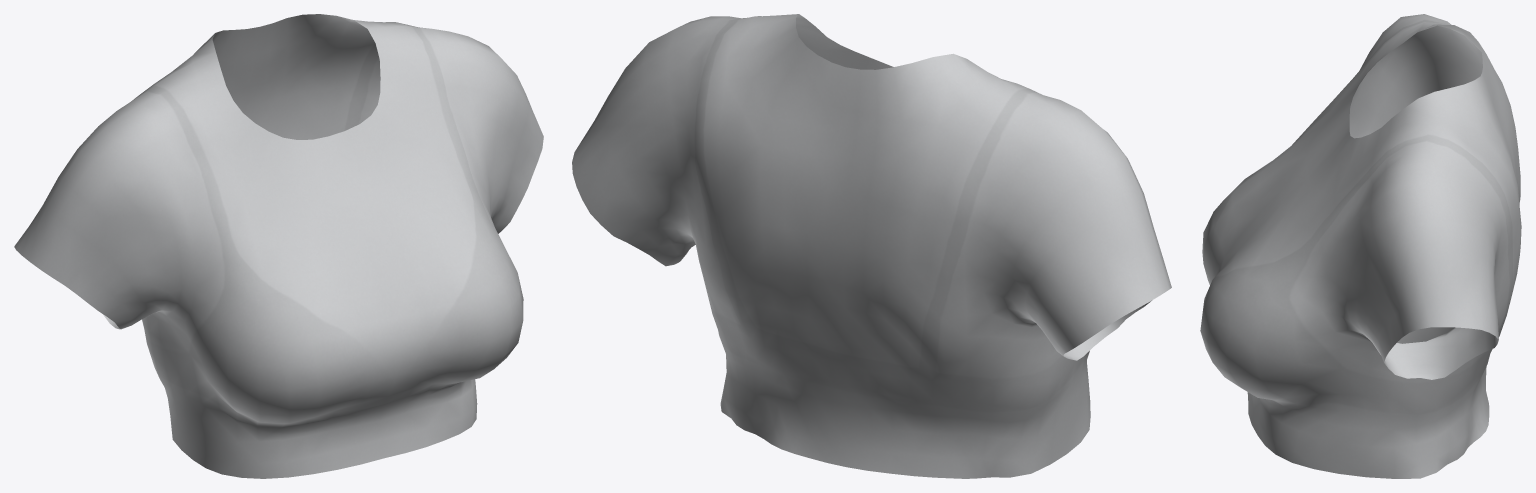
Rendered from croptop.glb.
3 views of the same model, side by side, from view 1: azimuth 30°, elevation 25°; view 2: azimuth 150°, elevation 25°; view 3: azimuth 270°, elevation 25° (orthographic). The views are drawn at different scales.
Parts seen in each view (by area): view 1: Plane.002; view 2: Plane.002; view 3: Plane.002.
Part boxes in pixels (x1,y1,x2,y2): Plane.002: (14, 14, 543, 478); Plane.002: (572, 14, 1171, 478); Plane.002: (1200, 14, 1521, 478).
Bounding box in the file's own units: 9.56 × 6.58 × 5.36.
Materials: 1 (1 with a texture image).
